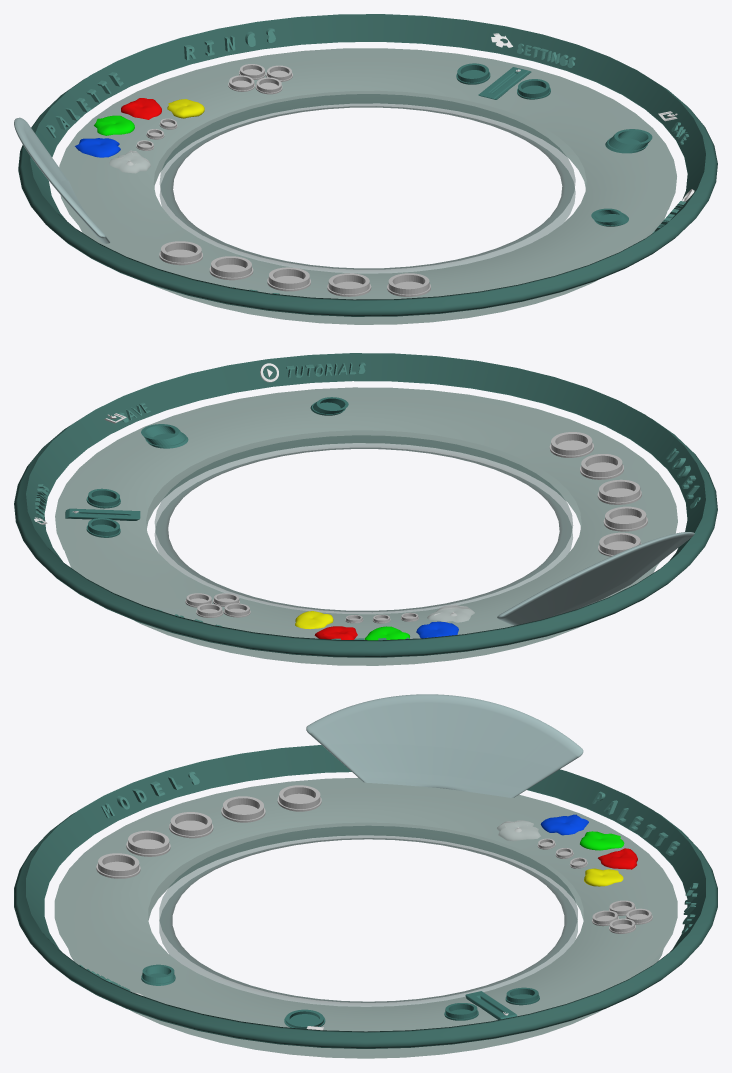
The model's file is ControlRing.fbx.
3 renders of one model, top to bottom at view 1: azimuth 30°, elevation 25°; view 2: azimuth 150°, elevation 25°; view 3: azimuth 270°, elevation 25°, orthographic.
Parts seen in each view (by area): view 1: ControlRing_Middle, ControlRing_Outer, ControlRing_Inner, ModelPanel, ButtonBase_Models_4, ButtonBase_Models_3, ButtonBase_Models_5, ButtonBase_Models_1, ButtonBase_Save, ButtonBase_Models_2, Volume_Slide_Base, ControlRing_Palette_Text (+10 smaller); view 2: ControlRing_Middle, ControlRing_Outer, ControlRing_Inner, ModelPanel, ButtonBase_Models_1, ButtonBase_Models_2, ButtonBase_Models_4, ButtonBase_Models_3, ButtonBase_Save, Volume_Slide_Base, ButtonBase_Models_5, Paint_Blob_Changeable (+7 smaller); view 3: ControlRing_Middle, ControlRing_Outer, ModelPanel, ControlRing_Inner, ButtonBase_Models_5, ButtonBase_Models_4, ButtonBase_Models_3, ButtonBase_Models_2, ButtonBase_Models_1, ControlRing_Palette_Text, Paint_Blob_Blue, ControlRing_Models_Text (+7 smaller).
Boxes of the visible parts, <box> form: ControlRing_Middle: <box>59,48,676,324</box>; ControlRing_Outer: <box>18,14,717,316</box>; ControlRing_Inner: <box>160,94,575,273</box>; ModelPanel: <box>14,117,110,243</box>; ButtonBase_Models_4: <box>209,256,253,280</box>; ButtonBase_Models_3: <box>267,267,310,291</box>; ButtonBase_Models_5: <box>159,241,202,265</box>; ButtonBase_Models_1: <box>387,273,430,296</box>; ButtonBase_Save: <box>605,129,652,153</box>; ButtonBase_Models_2: <box>327,273,371,296</box>; Volume_Slide_Base: <box>478,67,531,99</box>; ControlRing_Palette_Text: <box>46,72,123,137</box>; ControlRing_Middle: <box>55,387,677,665</box>; ControlRing_Outer: <box>14,353,717,657</box>; ControlRing_Inner: <box>155,435,572,613</box>; ModelPanel: <box>497,532,694,625</box>; ButtonBase_Models_1: <box>549,432,593,457</box>; ButtonBase_Models_2: <box>580,454,623,479</box>; ButtonBase_Models_4: <box>603,506,647,531</box>; ButtonBase_Models_3: <box>597,479,641,504</box>; ButtonBase_Save: <box>141,424,188,448</box>; Volume_Slide_Base: <box>65,508,140,520</box>; ButtonBase_Models_5: <box>598,532,641,556</box>; Paint_Blob_Changeable: <box>427,604,474,622</box>; ControlRing_Middle: <box>54,777,677,1058</box>; ControlRing_Outer: <box>14,745,717,1048</box>; ModelPanel: <box>306,694,583,797</box>; ControlRing_Inner: <box>159,826,577,1006</box>; ButtonBase_Models_5: <box>277,785,321,811</box>; ButtonBase_Models_4: <box>221,796,265,822</box>; ButtonBase_Models_3: <box>169,812,213,838</box>; ButtonBase_Models_2: <box>126,830,170,856</box>; ButtonBase_Models_1: <box>96,853,140,878</box>; ControlRing_Palette_Text: <box>592,791,679,855</box>; Paint_Blob_Blue: <box>540,814,588,835</box>; ControlRing_Models_Text: <box>101,771,199,817</box>.
Bounding box in the file's own units: 156 × 21.94 × 156.
